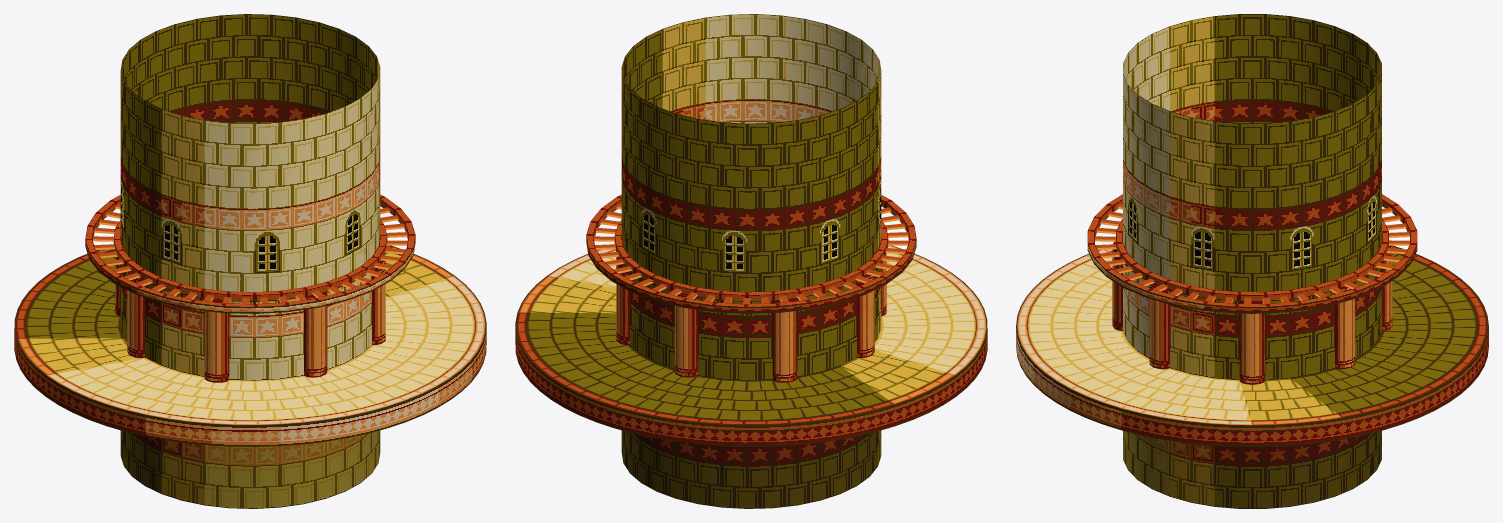
The model's file is Butter Building Shaded.dae.
The picture shows the model from 3 angles, left to right: view 1: azimuth 30°, elevation 25°; view 2: azimuth 150°, elevation 25°; view 3: azimuth 270°, elevation 25°; orthographic projection.
Visible parts, largest first — view 1: Wall, Wall.2, Floor, Wall.1, DarkWall, Floor.2, Star, Columns, LedgeSide, Floor.1, Star.3, Rim (+12 smaller); view 2: Wall.2, Floor.2, Wall, DarkWall.2, Floor, Rim.3, Star.3, Floor.1, Columns, LedgeSide, Wall.1, DarkStar.3 (+4 smaller); view 3: Wall.2, Floor, Floor.2, Wall.1, Wall, Star.3, Rim.3, DarkWall.2, Columns, LedgeSide, Floor.1, Plat (+10 smaller).
Boxes of the visible parts, x1,y1,x2,y2 form: Wall: (204,78,378,380); Wall.2: (120,14,376,365); Floor: (46,276,486,425); Wall.1: (161,57,380,376); DarkWall: (204,431,378,508); Floor.2: (14,245,393,338); Star: (204,164,378,337); Columns: (115,257,385,382); LedgeSide: (85,194,415,307); Floor.1: (16,246,454,375); Star.3: (120,99,330,322); Rim: (281,386,437,445); Wall.2: (621,29,877,380); Floor.2: (515,312,894,425); Wall: (705,14,879,123); DarkWall.2: (621,430,877,508); Floor: (547,245,987,375); Rim.3: (515,323,987,446); Star.3: (621,154,877,337); Floor.1: (517,276,955,404); Columns: (616,253,886,382); LedgeSide: (586,194,916,307); Wall.1: (662,17,881,337); DarkStar.3: (634,433,869,466); Wall.2: (1214,14,1381,380); Floor: (1016,249,1252,425); Floor.2: (1290,245,1488,417); Wall.1: (1170,16,1214,378); Wall: (1123,26,1169,358); Star.3: (1214,99,1381,337); Rim.3: (1121,326,1488,446); DarkWall.2: (1214,431,1381,508); Columns: (1112,241,1392,384); LedgeSide: (1087,194,1417,306); Floor.1: (1240,378,1342,425); Plat: (1095,202,1409,303).
Bounding box in the file's own units: 2000 × 1800 × 2000.
28 materials, 28 textured.
